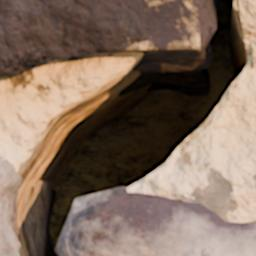brick: (0, 0, 211, 75)
broken_brick: (66, 190, 255, 255), (0, 210, 16, 255), (0, 159, 17, 201)
crack: (0, 0, 255, 255)
